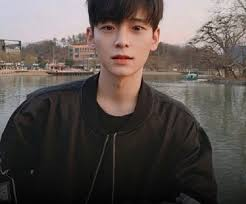people: (60, 1, 179, 204)
